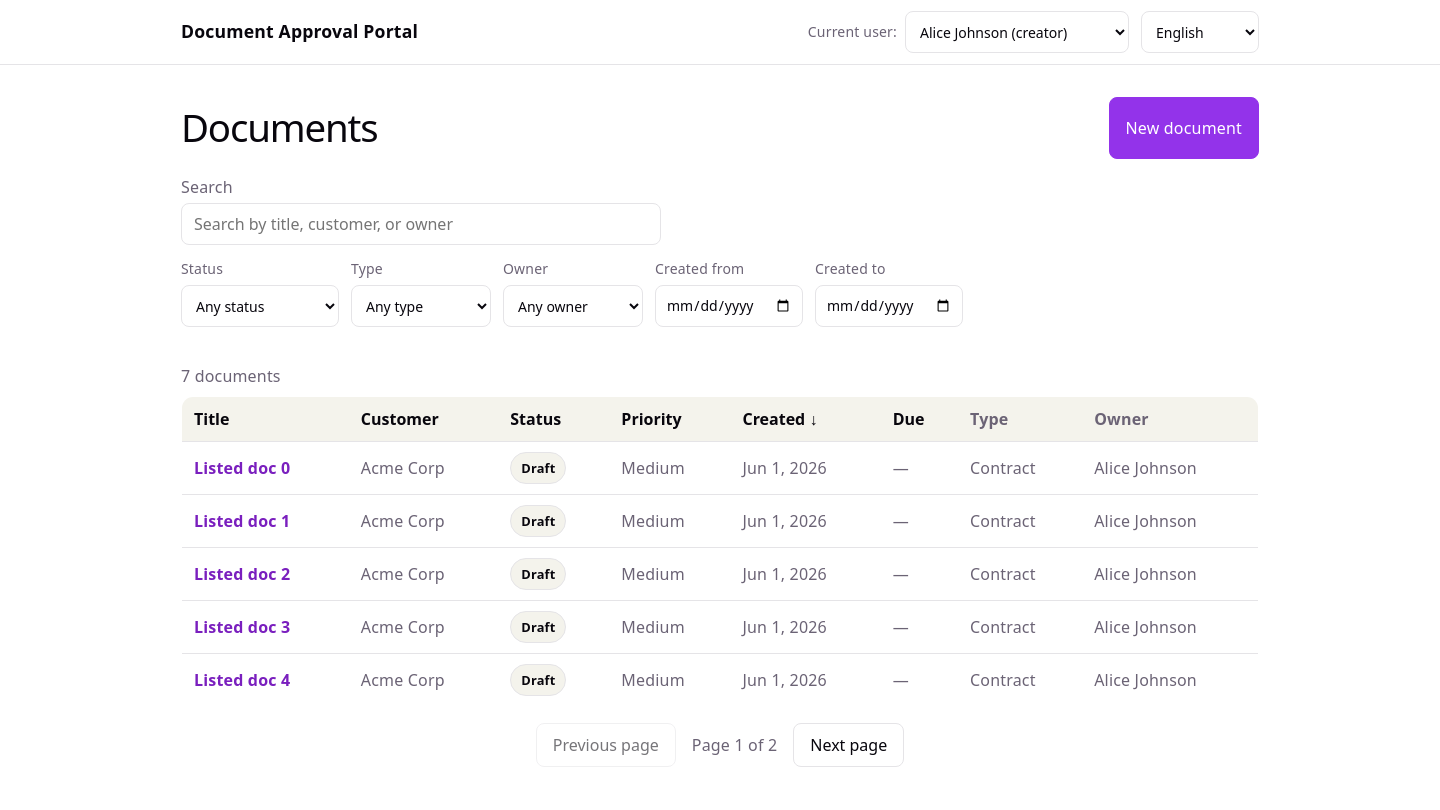
Test: document list › renders documents and paginates past the page size
Check: the text "7 documents" is shown, box top-left (181, 364), bottom-right (281, 388)
Check: the number of rows is 6, box top-left (182, 396), bottom-right (1258, 441); top-left (182, 441), bottom-right (1258, 494); top-left (182, 494), bottom-right (1258, 547); top-left (182, 547), bottom-right (1258, 600); top-left (182, 600), bottom-right (1258, 653); top-left (182, 653), bottom-right (1258, 706)
Click the button "Next page": (849, 745) top-left (793, 723), bottom-right (904, 767)
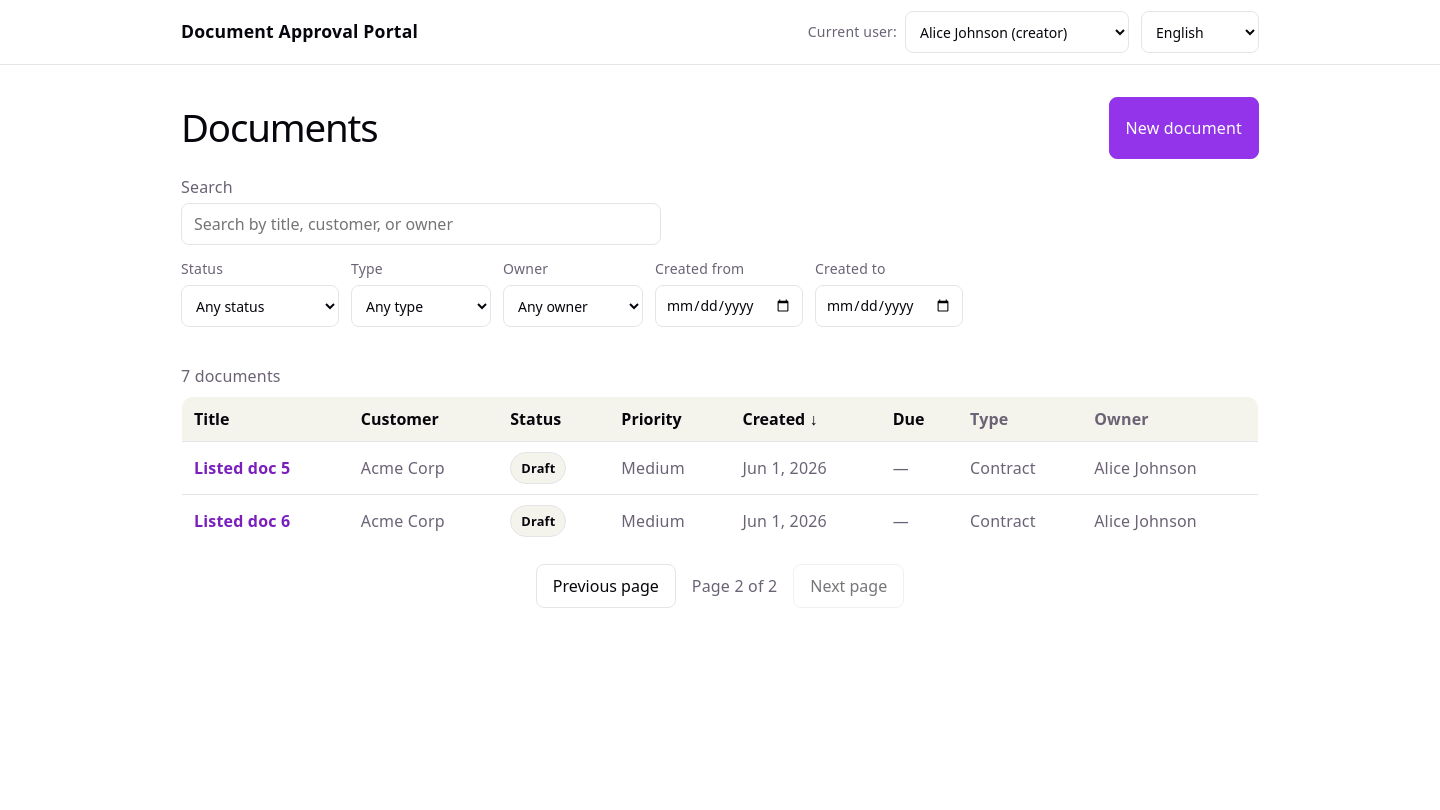
Check: the number of rows is 3, box top-left (182, 396), bottom-right (1258, 441); top-left (182, 441), bottom-right (1258, 494); top-left (182, 494), bottom-right (1258, 547)
Check: the text "Page 2 of 2" is shown, box top-left (692, 574), bottom-right (777, 598)
